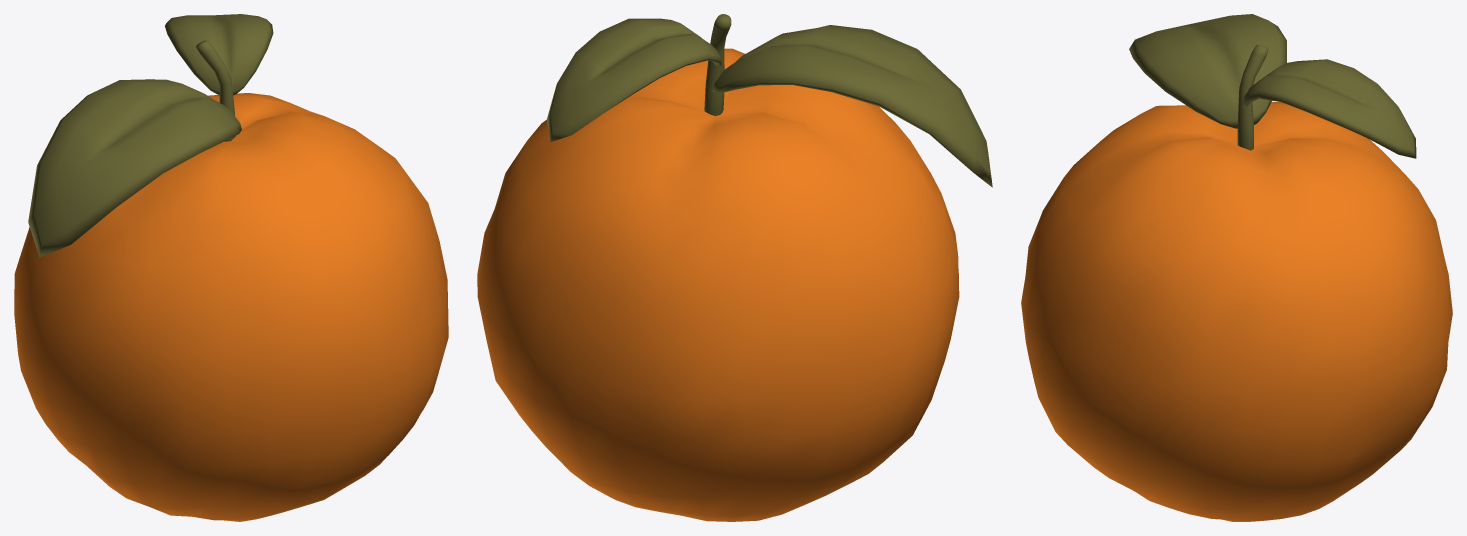
File: orange.glb
The picture shows the model from 3 angles, left to right: view 1: azimuth 30°, elevation 25°; view 2: azimuth 150°, elevation 25°; view 3: azimuth 270°, elevation 25°; orthographic projection. The views are drawn at different scales.
Visible parts, largest first — view 1: Orange; view 2: Orange; view 3: Orange.
Part boxes in pixels (x1=…): Orange: x1=14, y1=14, x2=448, y2=521; Orange: x1=477, y1=14, x2=992, y2=521; Orange: x1=1021, y1=14, x2=1452, y2=521.
Bounding box in the file's own units: 0.7301 × 0.7677 × 0.6776.
